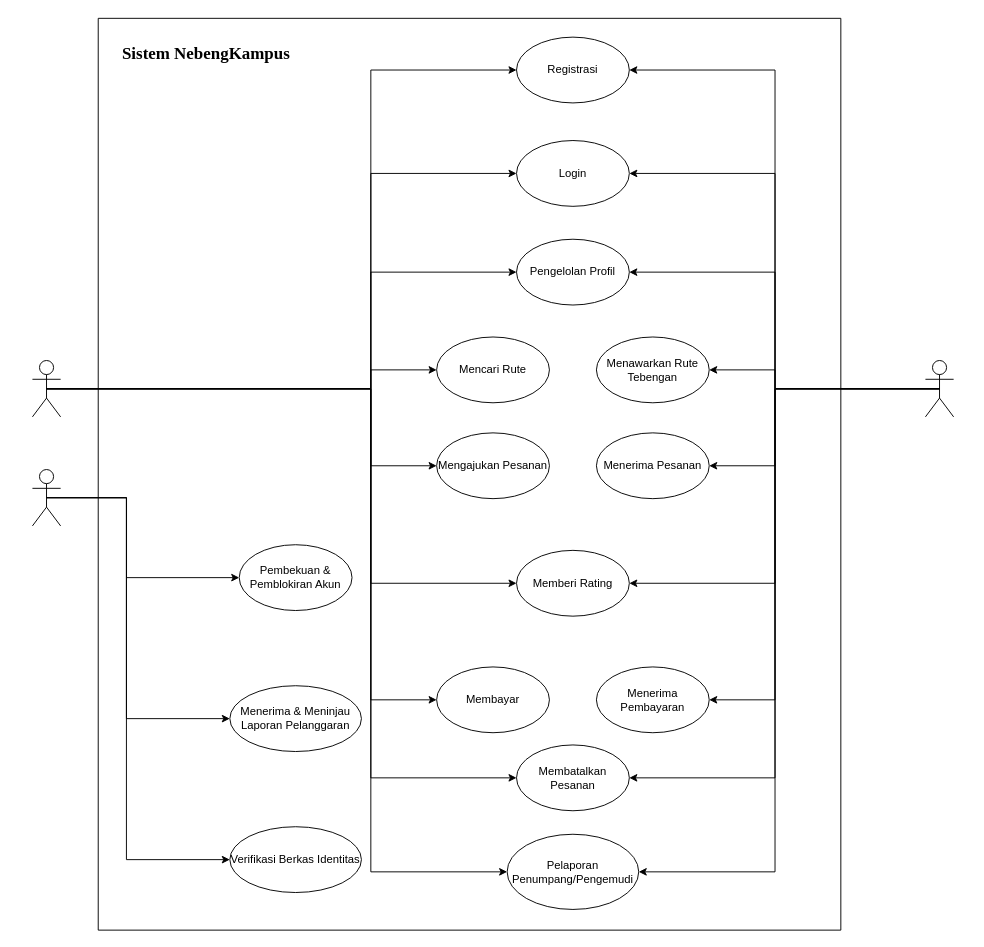
Image size: 984x947. Some labels were removed from this diagram. Each missing label, with the box of its shape:
Admin: (31, 469, 61, 526)
Pengemudi: (924, 360, 954, 417)
Penumpang: (31, 360, 61, 417)
